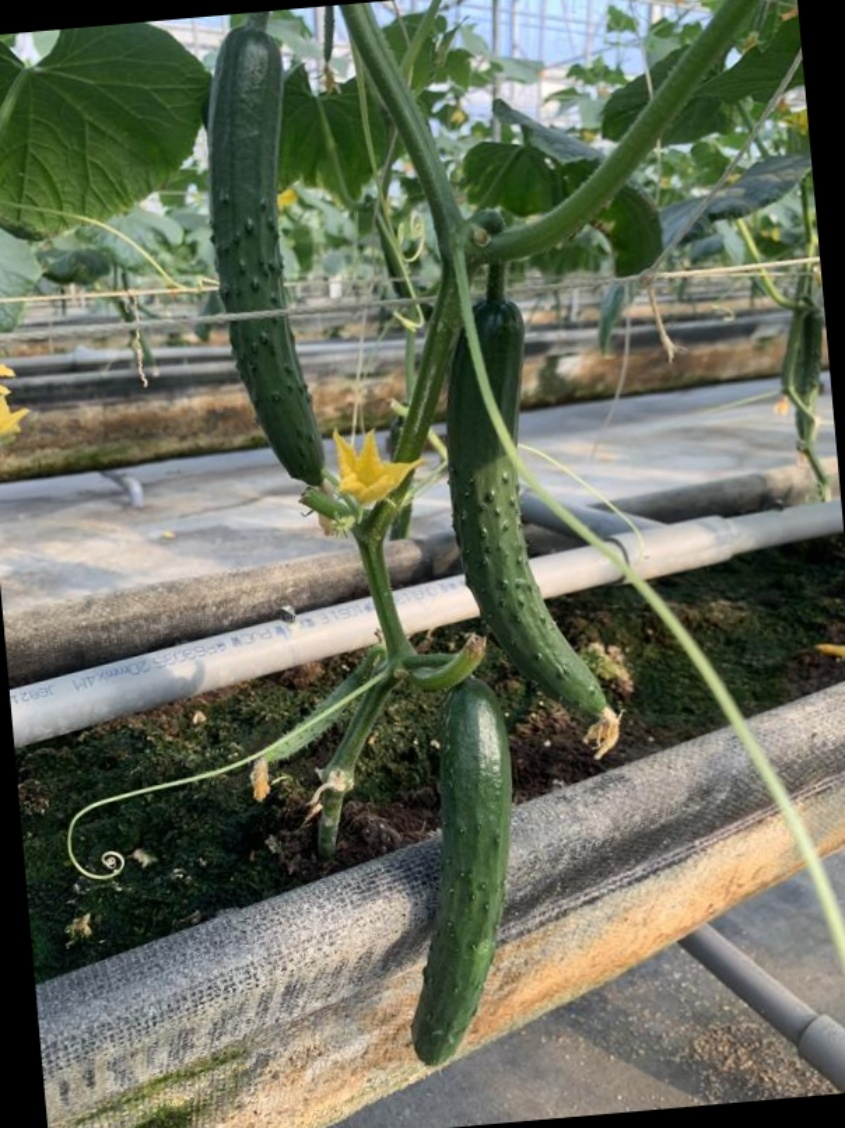mature: (403, 676, 518, 1066)
